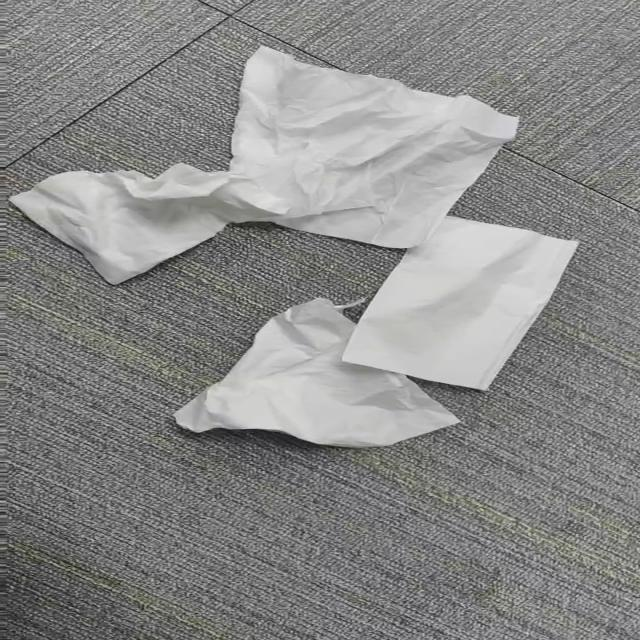paper: (11, 46, 516, 284), (175, 298, 459, 448), (342, 218, 577, 390)
